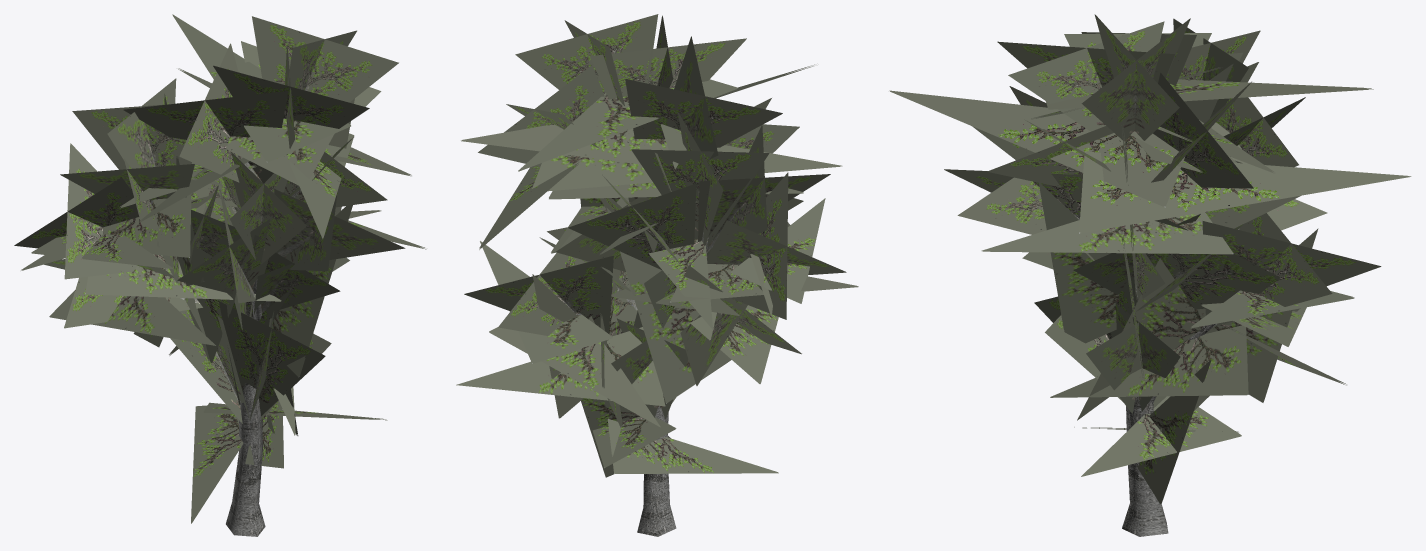
The model's file is olmo_d.glb.
The picture shows the model from 3 angles, left to right: view 1: azimuth 30°, elevation 25°; view 2: azimuth 150°, elevation 25°; view 3: azimuth 270°, elevation 25°; orthographic projection. The views are drawn at different scales.
Parts seen in each view (by area): view 1: Modelo; view 2: Modelo; view 3: Modelo.
Boxes of the visible parts, x1,y1,x2,y2 form: Modelo: [14, 14, 426, 536]; Modelo: [456, 14, 858, 536]; Modelo: [889, 14, 1411, 536].
Size of the model in its own units: 8.72 by 11.03 by 9.93.
1 material, 1 textured.
